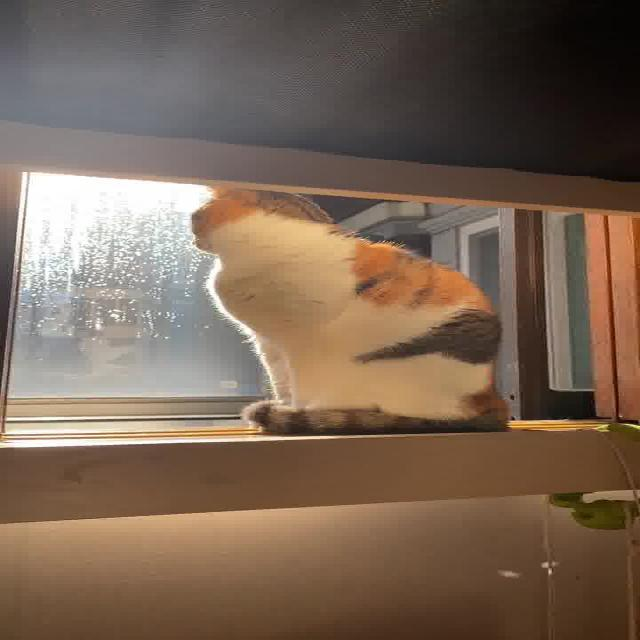cat: (158, 168, 528, 447)
